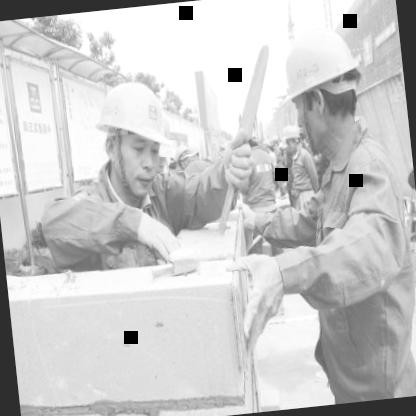helmet: (272, 11, 372, 153), (87, 66, 181, 198), (284, 124, 304, 154), (174, 140, 194, 168)
